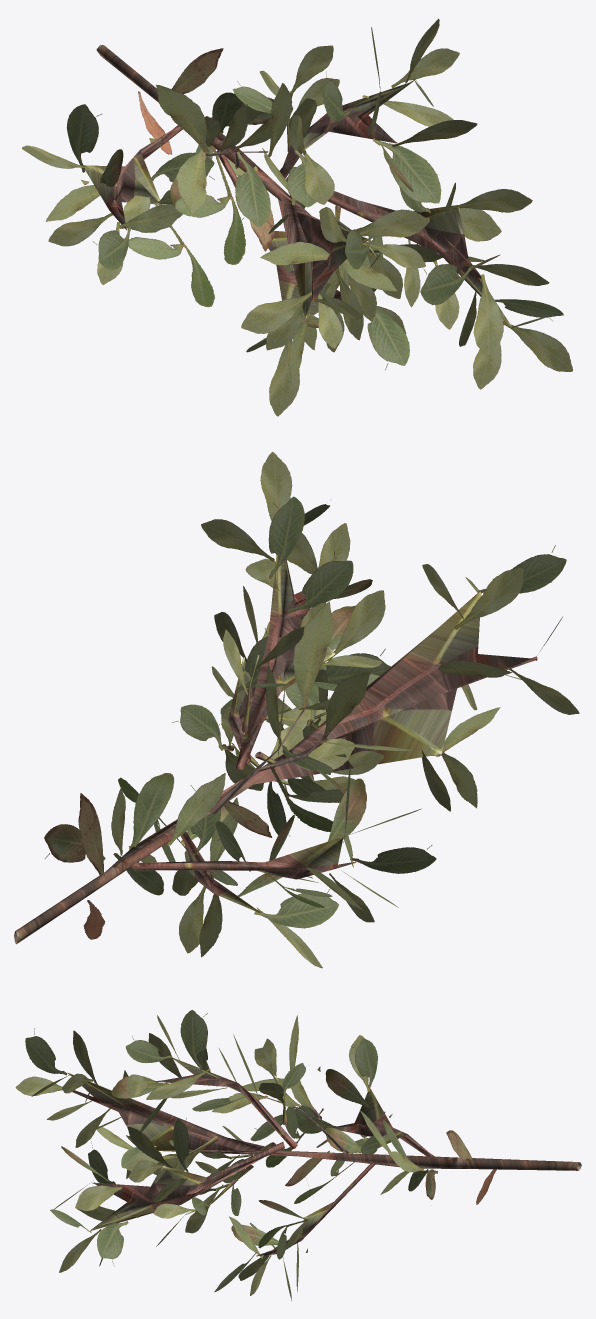
The model's file is shrub_c.glb.
3 views of the same model, one above another, from view 1: azimuth 30°, elevation 25°; view 2: azimuth 150°, elevation 25°; view 3: azimuth 270°, elevation 25° (orthographic). The views are drawn at different scales.
Parts seen in each view (by area): view 1: shrub_c; view 2: shrub_c; view 3: shrub_c.
Part boxes in pixels (x1,y1,x2,y2): shrub_c: (22,19,572,416); shrub_c: (14,452,579,968); shrub_c: (15,1010,581,1300).
Size of the model in its own units: 0.1209 by 0.131 by 0.2199.
1 material, 1 textured.
